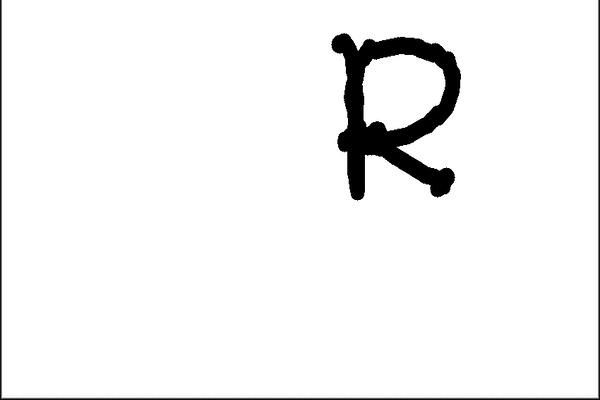R: (323, 18, 473, 211)
